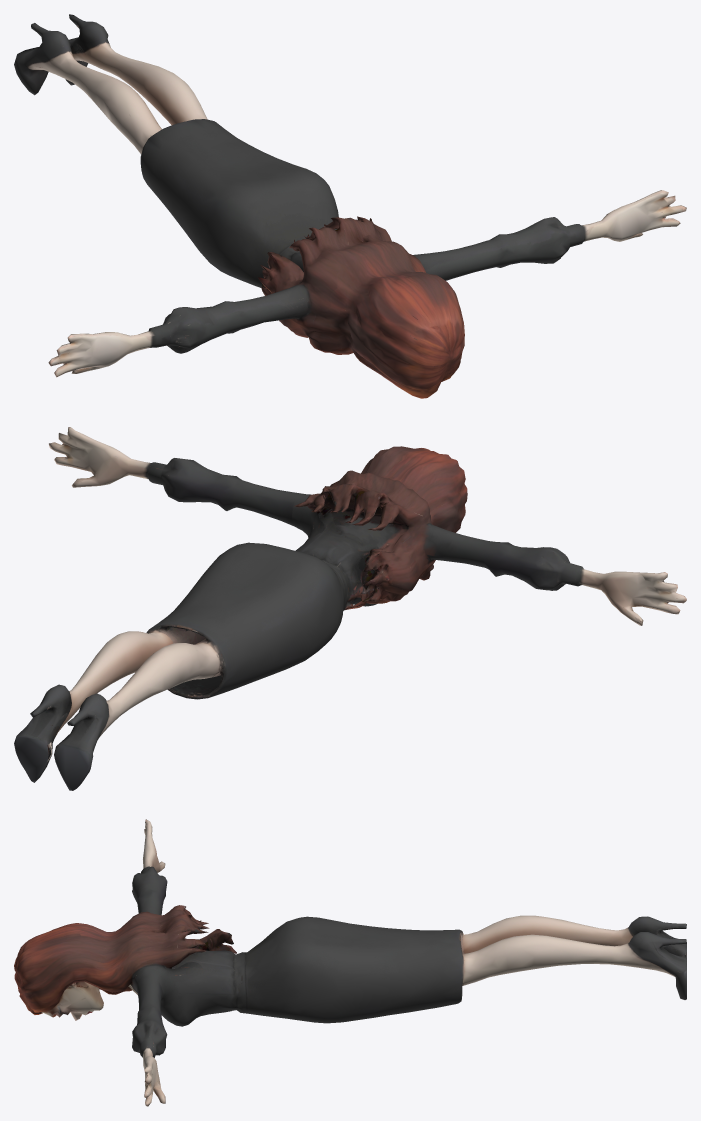
File: CalisanKadın1Tpoz.fbx
3 renders of one model, top to bottom at view 1: azimuth 30°, elevation 25°; view 2: azimuth 150°, elevation 25°; view 3: azimuth 270°, elevation 25°, orthographic. The views are drawn at different scales.
Parts seen in each view (by area): view 1: Mesh_0; view 2: Mesh_0; view 3: Mesh_0.
Boxes of the visible parts, x1,y1,x2,y2 form: Mesh_0: (14,14,686,398); Mesh_0: (14,427,686,790); Mesh_0: (14,819,686,1106).
Size of the model in its own units: 179 by 32.29 by 191.
1 material, 1 textured.
